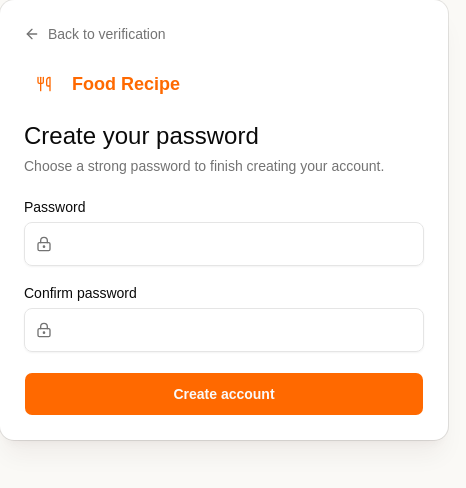
Test: shows an error when the password has no lowercase letter
Type "AASC@!12314" into the password field labelled "Password".
click(224, 244); type("AASC@!12314")  # box x1=24 y1=222 x2=424 y2=266
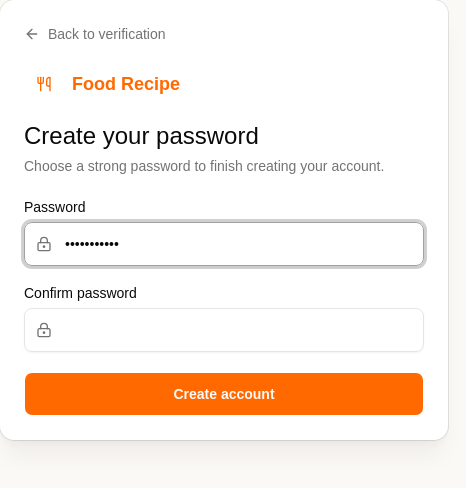
Type "AASC@!12314" into the password field labelled "Confirm password".
click(224, 330); type("AASC@!12314")  # box x1=24 y1=308 x2=424 y2=352
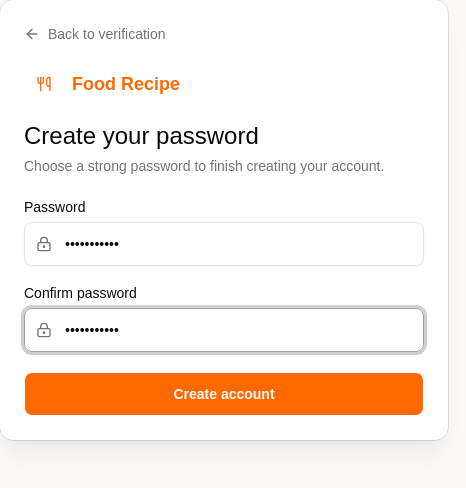
Click the button "Create account".
click(224, 394)  # box x1=24 y1=372 x2=424 y2=416
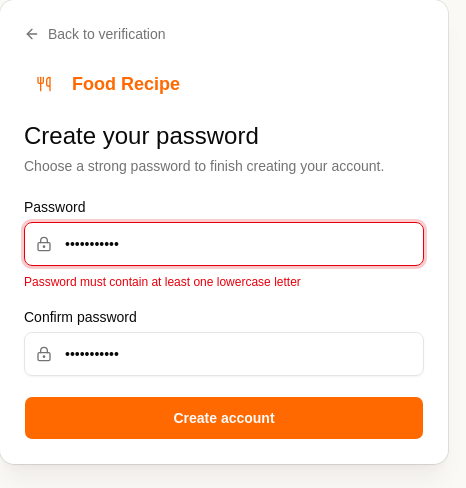
Expected: the text "Password must contain at least one lowercase letter" is shown, x1=24 y1=275 x2=301 y2=289
